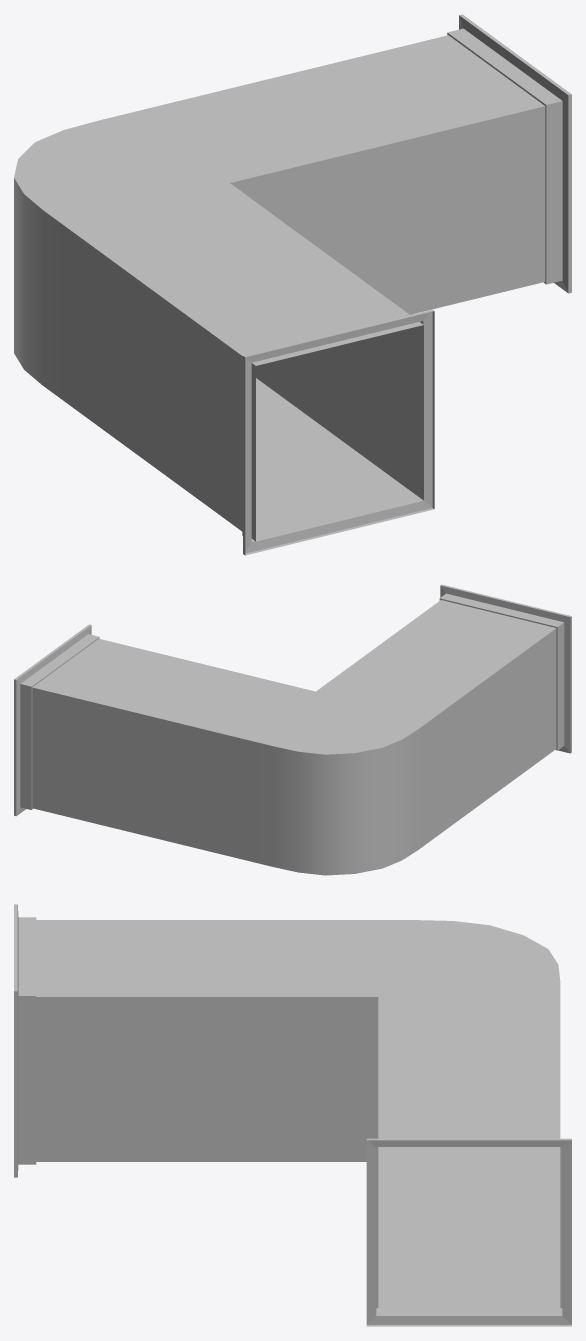
File: SM_Airing_Turn.FBX
3 views of the same model, one above another, from view 1: azimuth 30°, elevation 25°; view 2: azimuth 150°, elevation 25°; view 3: azimuth 270°, elevation 25° (orthographic). The views are drawn at different scales.
Visible parts, largest first — view 1: SM_Airing_Turn; view 2: SM_Airing_Turn; view 3: SM_Airing_Turn.
Part boxes in pixels (x1=…): SM_Airing_Turn: x1=14, y1=14, x2=571, y2=555; SM_Airing_Turn: x1=14, y1=584, x2=571, y2=875; SM_Airing_Turn: x1=14, y1=904, x2=571, y2=1326.
Bounding box in the file's own units: 153 × 153 × 56.42.
